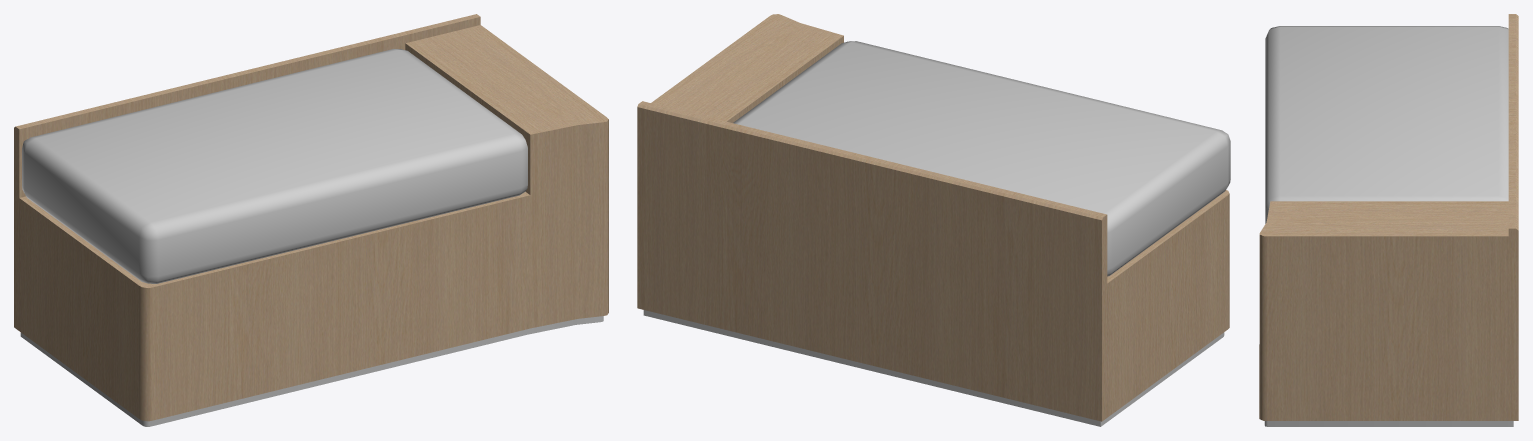
Rendered from D_Bench_303_c.fbx.
3 renders of one model, left to right at view 1: azimuth 30°, elevation 25°; view 2: azimuth 150°, elevation 25°; view 3: azimuth 270°, elevation 25°, orthographic. The views are drawn at different scales.
Visible parts, largest first — view 1: D_Bench_303_c; view 2: D_Bench_303_c; view 3: D_Bench_303_c.
Boxes of the visible parts, x1,y1,x2,y2 form: D_Bench_303_c: [14, 14, 608, 426]; D_Bench_303_c: [637, 14, 1230, 426]; D_Bench_303_c: [1259, 14, 1518, 426].
Size of the model in its own units: 1.2 by 0.52 by 0.6099.
